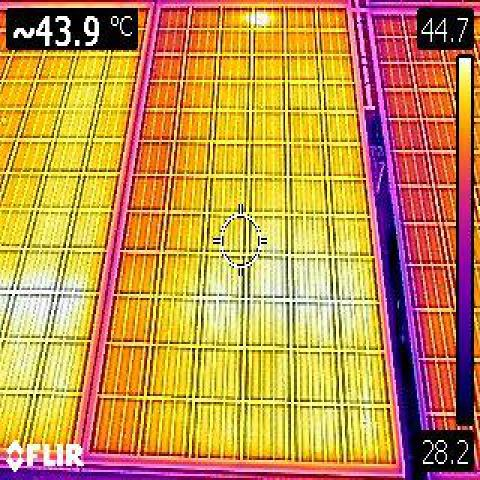fault: (0, 275, 93, 342), (240, 6, 274, 30)
